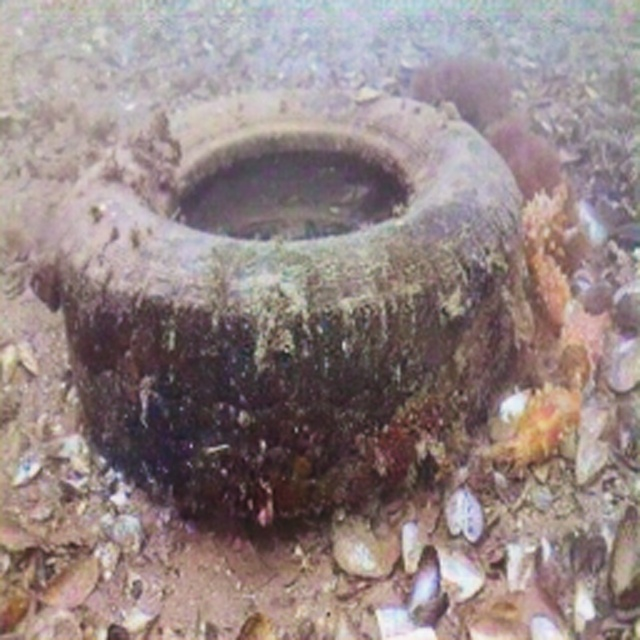mine: (55, 88, 529, 538)
